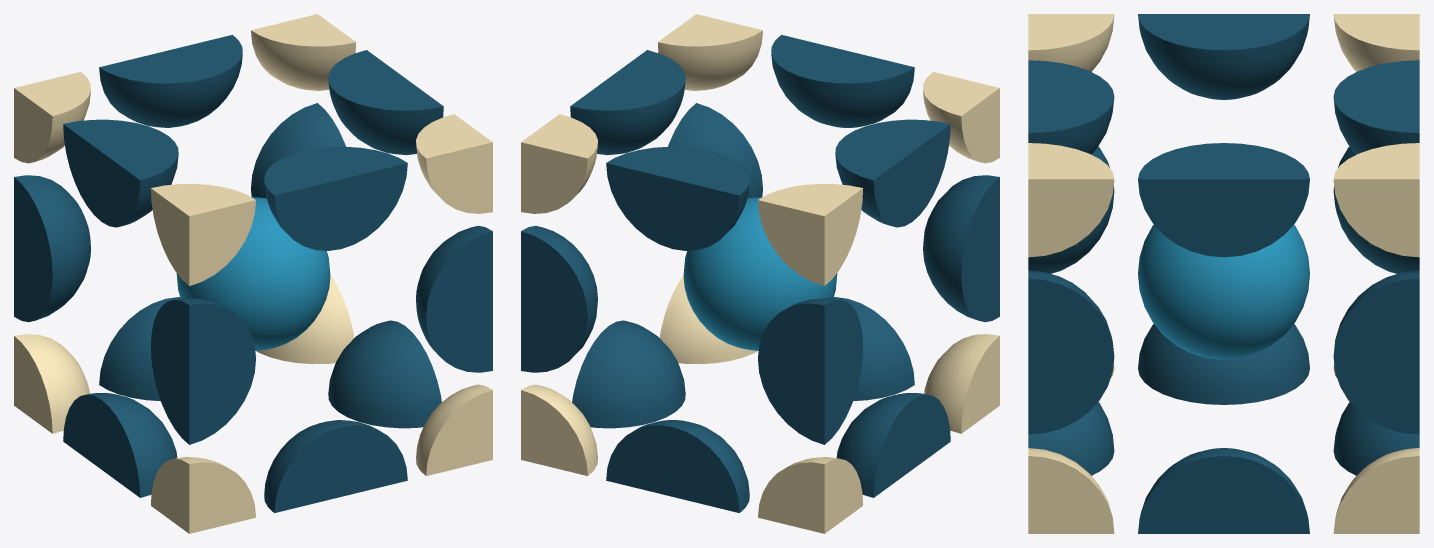
File: jingbao1-D.gltf
3 renders of one model, left to right at view 1: azimuth 30°, elevation 25°; view 2: azimuth 150°, elevation 25°; view 3: azimuth 270°, elevation 25°, orthographic. The views are drawn at different scales.
Parts seen in each view (by area): view 1: 1, 2, 3; view 2: 1, 2, 3; view 3: 1, 2, 3.
Part boxes in pixels (bbox=[...]): 1: bbox=[14, 35, 492, 512]; 2: bbox=[14, 14, 492, 533]; 3: bbox=[176, 197, 330, 350]; 1: bbox=[521, 35, 999, 512]; 2: bbox=[521, 14, 999, 533]; 3: bbox=[683, 197, 837, 350]; 1: bbox=[1028, 14, 1419, 533]; 2: bbox=[1028, 14, 1419, 533]; 3: bbox=[1138, 225, 1309, 359].
Bounding box in the file's own units: 50 × 50 × 50.
Materials: 3 (3 with a texture image).
